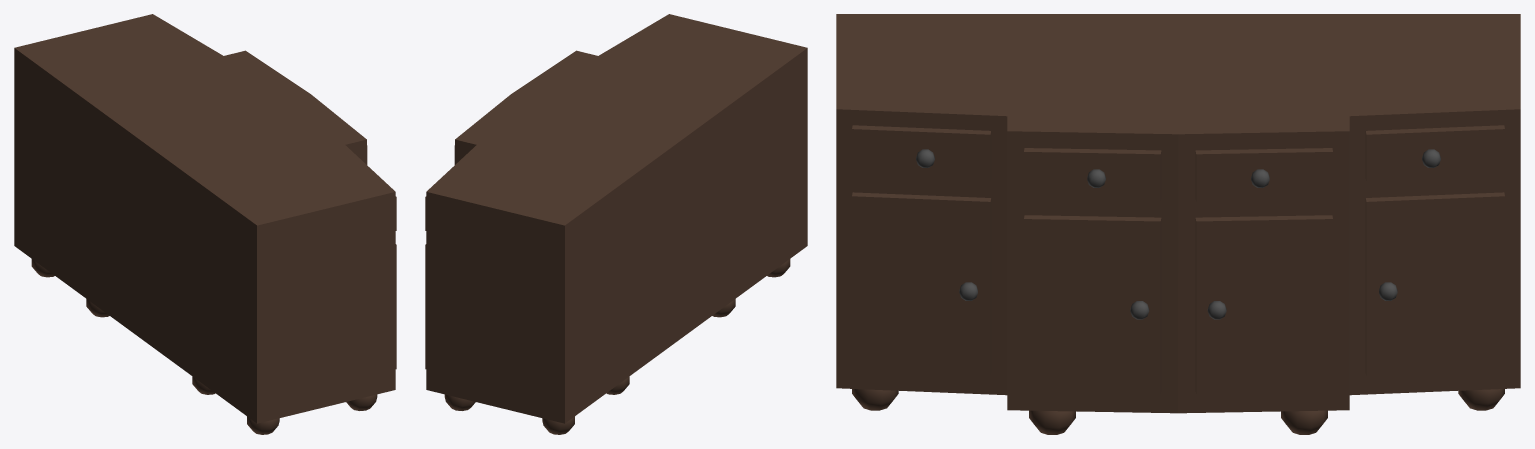
File: S_Forniture_01.fbx
3 renders of one model, left to right at view 1: azimuth 30°, elevation 25°; view 2: azimuth 150°, elevation 25°; view 3: azimuth 270°, elevation 25°, orthographic. The views are drawn at different scales.
Visible parts, largest first — view 1: S_Forniture_01; view 2: S_Forniture_01; view 3: S_Forniture_01.
Boxes of the visible parts, x1,y1,x2,y2 form: S_Forniture_01: (14,14,396,434); S_Forniture_01: (425,14,807,434); S_Forniture_01: (836,14,1520,434).
Size of the model in its own units: 107 by 120 by 240.
